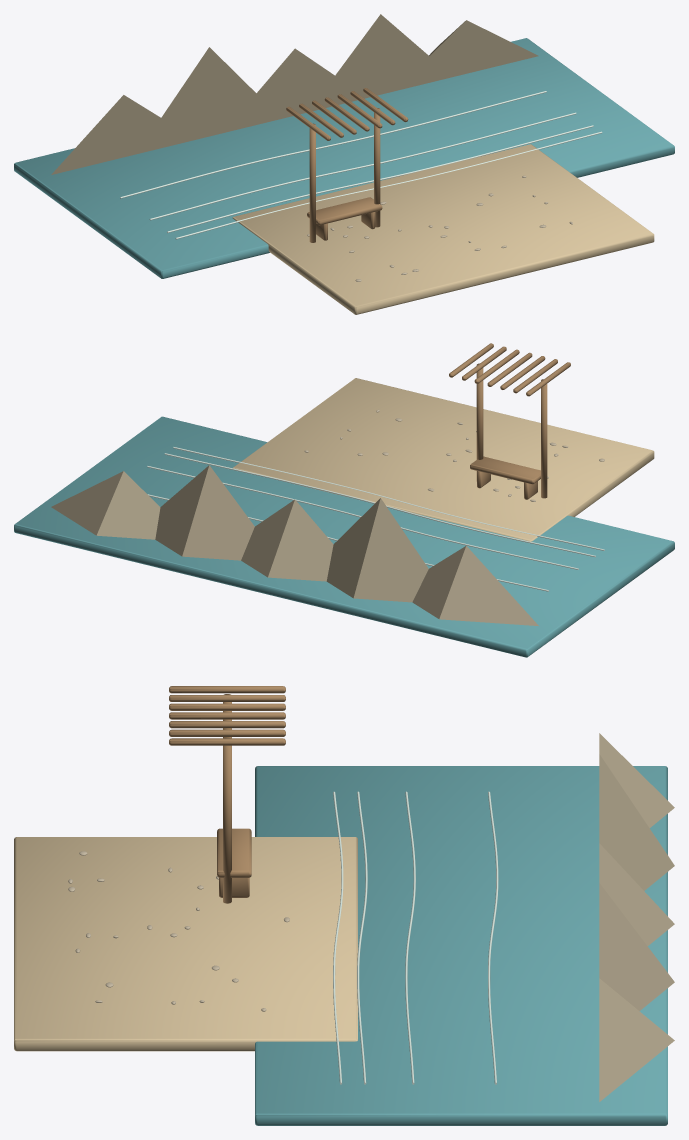
Rendered from coast.glb.
3 views of the same model, one above another, from view 1: azimuth 30°, elevation 25°; view 2: azimuth 150°, elevation 25°; view 3: azimuth 270°, elevation 25° (orthographic). The views are drawn at different scales.
Parts seen in each view (by area): view 1: Sea, Shore, MountainSilhouette.001, MountainSilhouette.003, MountainSilhouette, MountainSilhouette.002, MountainSilhouette.004, SeatedRest, GentleWaterline.003, GentleWaterline.002, GentleWaterline.001, ShadePost (+2 smaller); view 2: Sea, Shore, MountainSilhouette.001, MountainSilhouette.003, MountainSilhouette, MountainSilhouette.002, MountainSilhouette.004, SeatedRest, GentleWaterline.001, GentleWaterline.002, GentleWaterline, ShadePost (+1 smaller); view 3: Sea, Shore, MountainSilhouette.003, MountainSilhouette.004, MountainSilhouette.001, MountainSilhouette.002, MountainSilhouette, ShadePost.001, SeatedRest, ShadedPergola.003, ShadedPergola.006, ShadedPergola (+8 smaller).
Boxes of the visible parts, <box> form: Sea: <box>14,38,674,278</box>; Shore: <box>232,144,654,314</box>; MountainSilhouette.001: <box>138,47,281,153</box>; MountainSilhouette.003: <box>313,14,452,110</box>; MountainSilhouette: <box>51,95,194,174</box>; MountainSilhouette.002: <box>225,48,367,131</box>; MountainSilhouette.004: <box>396,20,538,90</box>; SeatedRest: <box>307,197,382,225</box>; GentleWaterline.003: <box>120,91,546,198</box>; GentleWaterline.002: <box>149,112,576,220</box>; GentleWaterline.001: <box>167,125,593,232</box>; ShadePost: <box>309,123,315,242</box>; Sea: <box>14,416,674,657</box>; Shore: <box>233,378,654,541</box>; MountainSilhouette.001: <box>326,498,428,602</box>; MountainSilhouette.003: <box>155,465,254,560</box>; MountainSilhouette: <box>412,545,538,625</box>; MountainSilhouette.002: <box>241,499,333,581</box>; MountainSilhouette.004: <box>51,471,160,539</box>; SeatedRest: <box>470,456,540,484</box>; GentleWaterline.001: <box>164,453,595,557</box>; GentleWaterline.002: <box>147,466,578,569</box>; GentleWaterline: <box>173,447,604,550</box>; ShadePost: <box>541,379,547,498</box>; Sea: <box>255,766,667,1125</box>; Shore: <box>14,837,357,1051</box>; MountainSilhouette.003: <box>599,883,674,1010</box>; MountainSilhouette.004: <box>599,978,674,1101</box>; MountainSilhouette.001: <box>599,754,674,890</box>; MountainSilhouette.002: <box>599,843,674,945</box>; MountainSilhouette: <box>599,733,674,827</box>; ShadePost.001: <box>223,737,231,903</box>; SeatedRest: <box>217,828,251,877</box>; ShadedPergola.003: <box>169,712,285,719</box>; ShadedPergola.006: <box>169,738,285,745</box>; ShadedPergola: <box>169,686,285,693</box>.
Bounding box in the file's own units: 12 × 2.95 × 9.6.
